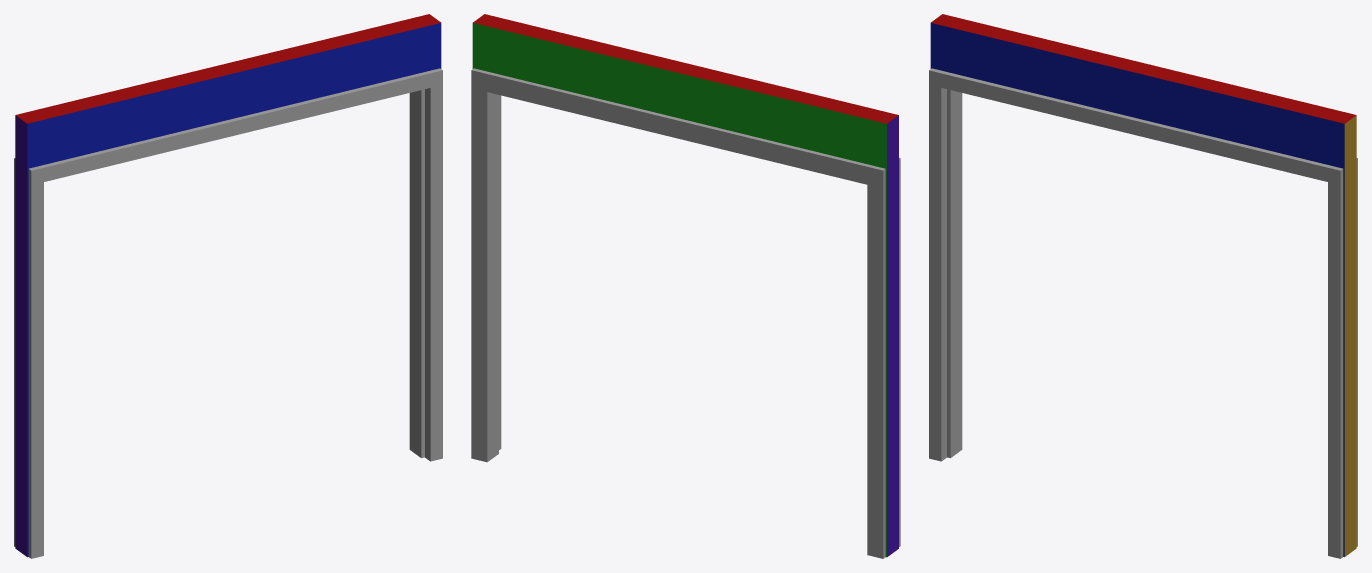
Rendered from Wall_Door_04b.fbx.
3 renders of one model, left to right at view 1: azimuth 30°, elevation 25°; view 2: azimuth 150°, elevation 25°; view 3: azimuth 330°, elevation 25°, orthographic.
Parts seen in each view (by area): view 1: Wall_Door_04b; view 2: Wall_Door_04b; view 3: Wall_Door_04b.
Boxes of the visible parts, bbox=[...] form: Wall_Door_04b: bbox=[14, 14, 442, 558]; Wall_Door_04b: bbox=[471, 14, 900, 558]; Wall_Door_04b: bbox=[929, 14, 1357, 558].
Size of the model in its own units: 3 by 0.2177 by 3.
